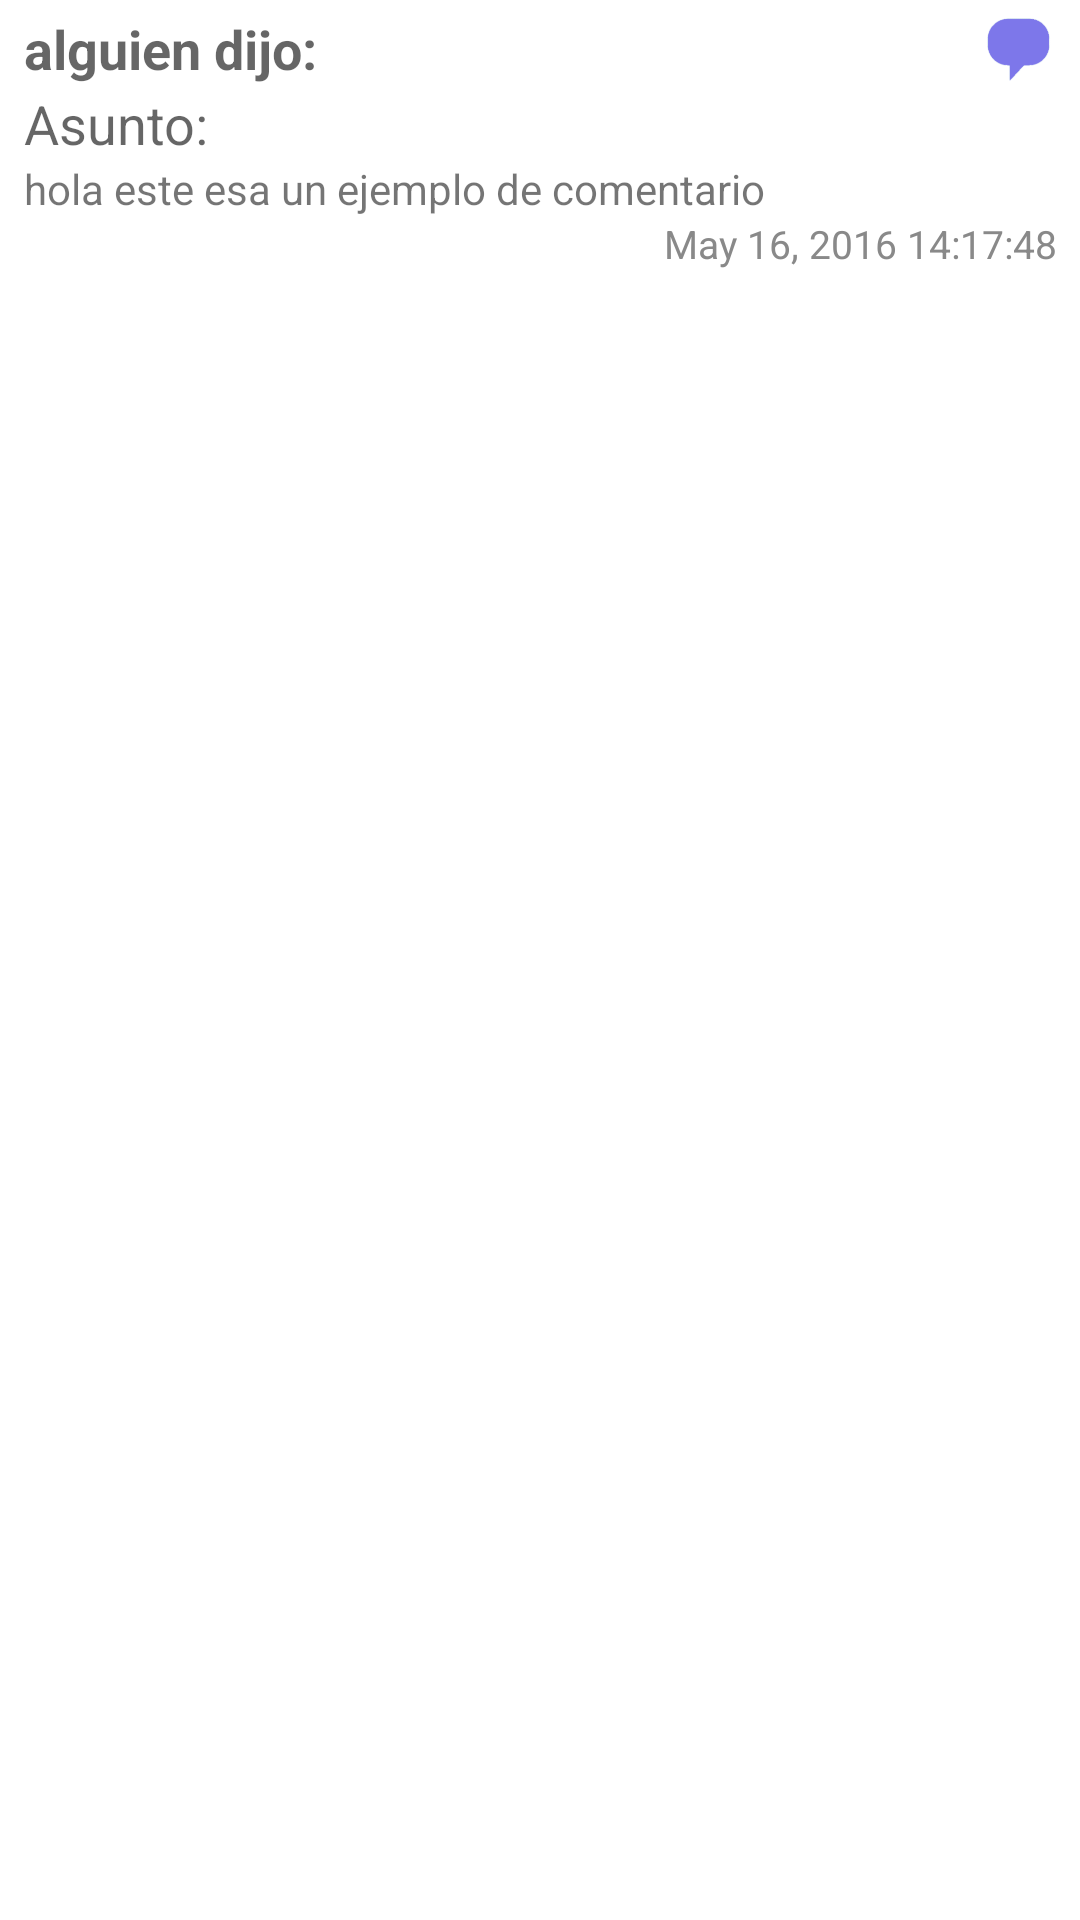

Where icons sit on this 1080 × 1920 app screen, as (left=x1, top=y1, right=x2, bottom=y2):
comment: (left=987, top=18, right=1050, bottom=80)
